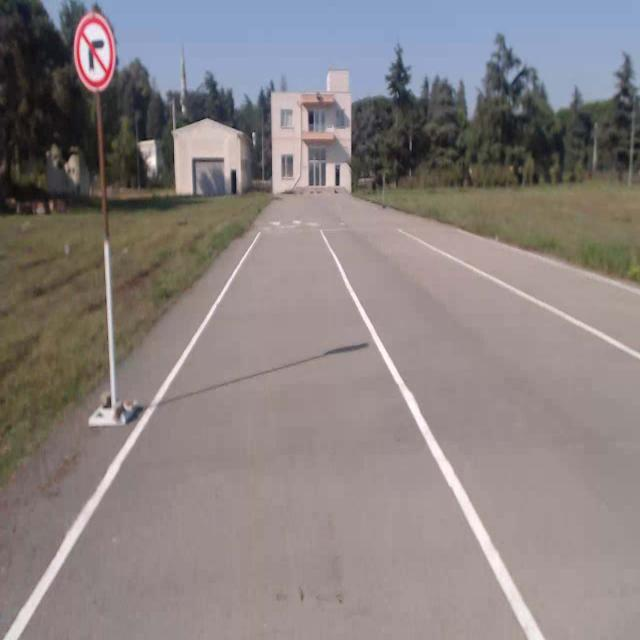sagadonulmez: (74, 12, 116, 92)
